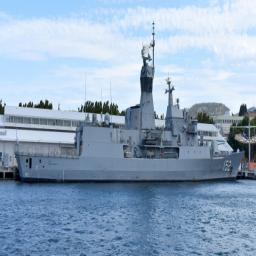Fragata: (15, 16, 247, 186)
